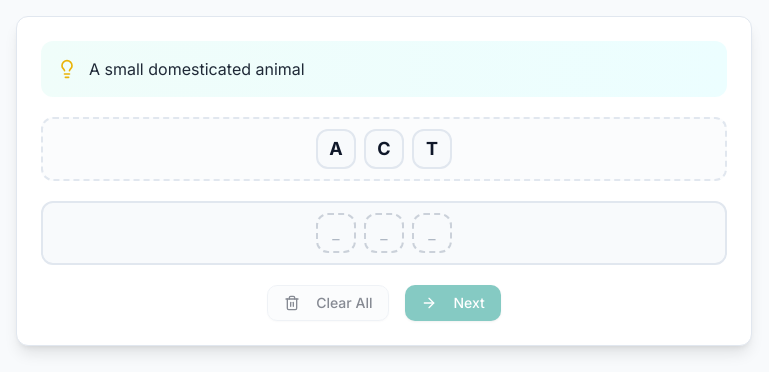
Test: WordBuilderPlayer › clear functionality › Clear All button is enabled when letters are placed
Note: Place a letter
Click the button "t" at (432, 149), box [412,129,452,169]
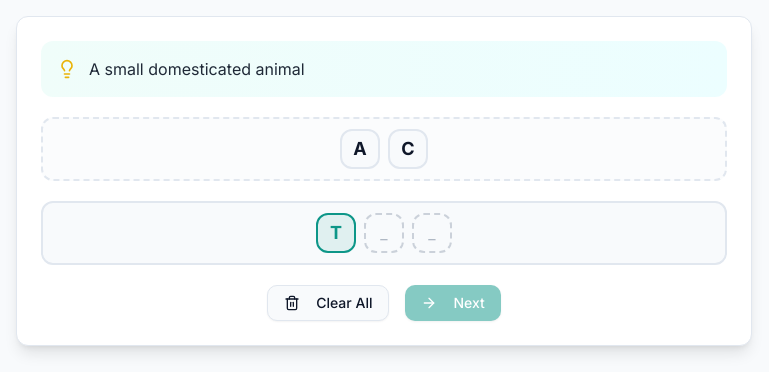
Check: the button "Clear All" is enabled, box [267,285,389,321]
